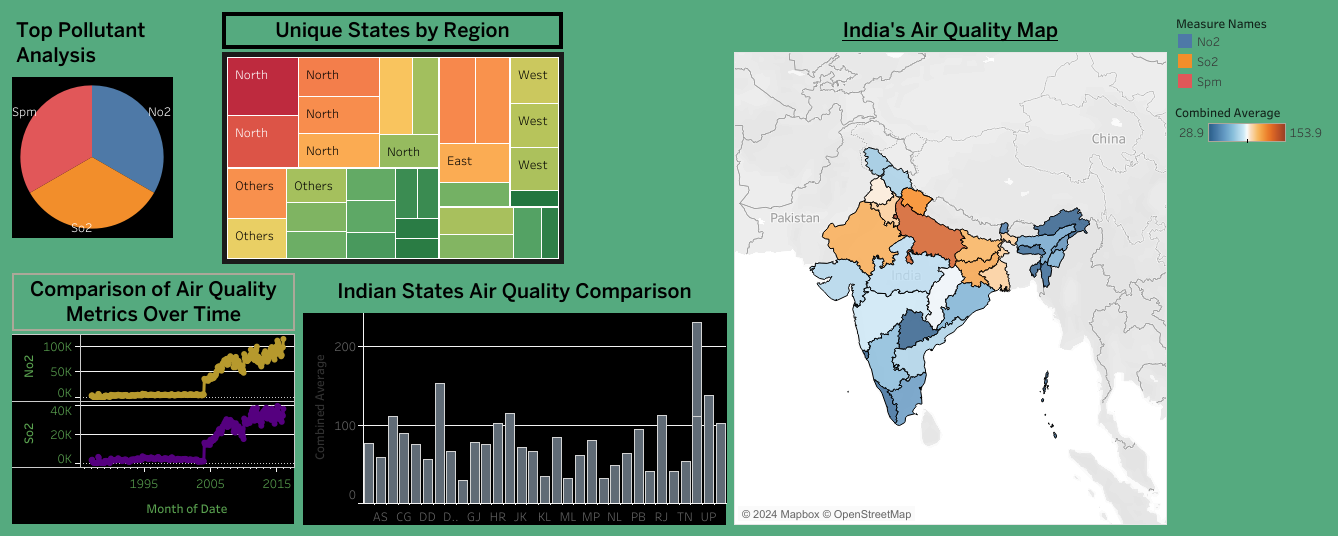

The page's visual inventory and layout, read from the dashboard file:
{"tool":"tableau","page":{"name":"Dashboard 1","canvas":[1000,1000],"units":"permille","ordinal":0},"visuals":[{"type":"worksheet","title":"Top Pollutant Analysis","mark":"Pie","box":[6.9,13.5,153.2,486.5]},{"type":"worksheet","title":"State Comparison","mark":"Automatic","box":[160.2,13.5,373.2,486.5]},{"type":"worksheet","title":"Map ","mark":"Automatic","box":[533.3,13.5,321.2,973]},{"type":"legend","title":"Top Pollutant Analysis","param":"[federated.1lewahs1k3om7210cc2c400d8tio].[:Measure Names]","box":[854.5,13.5,138.5,145.3]},{"type":"legend","title":"Map ","param":"[federated.1lewahs1k3om7210cc2c400d8tio].[usr:Calculation_799388980193112064:qk]","box":[854.5,158.8,138.5,109.8]},{"type":"worksheet","title":"time series","mark":"Line","rows":["no2","so2"],"cols":["date"],"box":[6.9,500,211.9,486.5]},{"type":"worksheet","title":"comparative analysis","mark":"Automatic","rows":["Calculation_799388980193112064"],"cols":["Calculation_799388980205252610"],"box":[218.8,500,314.5,486.5]}]}

Visuals, with their boxes on the dashboard's canvas, which has no fixed pixel size, in thousandths of its width and height (x1, y1, x2, y2). These are canvas units, not pixel positions in the 1338x536 screenshot, which may show the page scaled, cropped or inside an application window:
"Top Pollutant Analysis" worksheet (Pie marks): crop(7, 14, 160, 500)
"State Comparison" worksheet: crop(160, 14, 533, 500)
"Map " worksheet: crop(533, 14, 854, 986)
"Top Pollutant Analysis" legend: crop(854, 14, 993, 159)
"Map " legend: crop(854, 159, 993, 269)
"time series" worksheet (Line marks): crop(7, 500, 219, 986)
"comparative analysis" worksheet: crop(219, 500, 533, 986)
